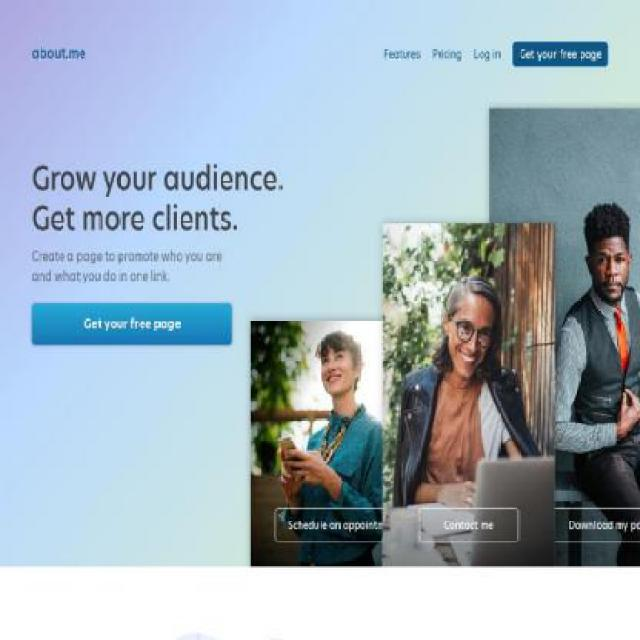button: (32, 303, 232, 345), (274, 508, 412, 542), (537, 508, 640, 542), (418, 508, 519, 542), (512, 42, 608, 66)
